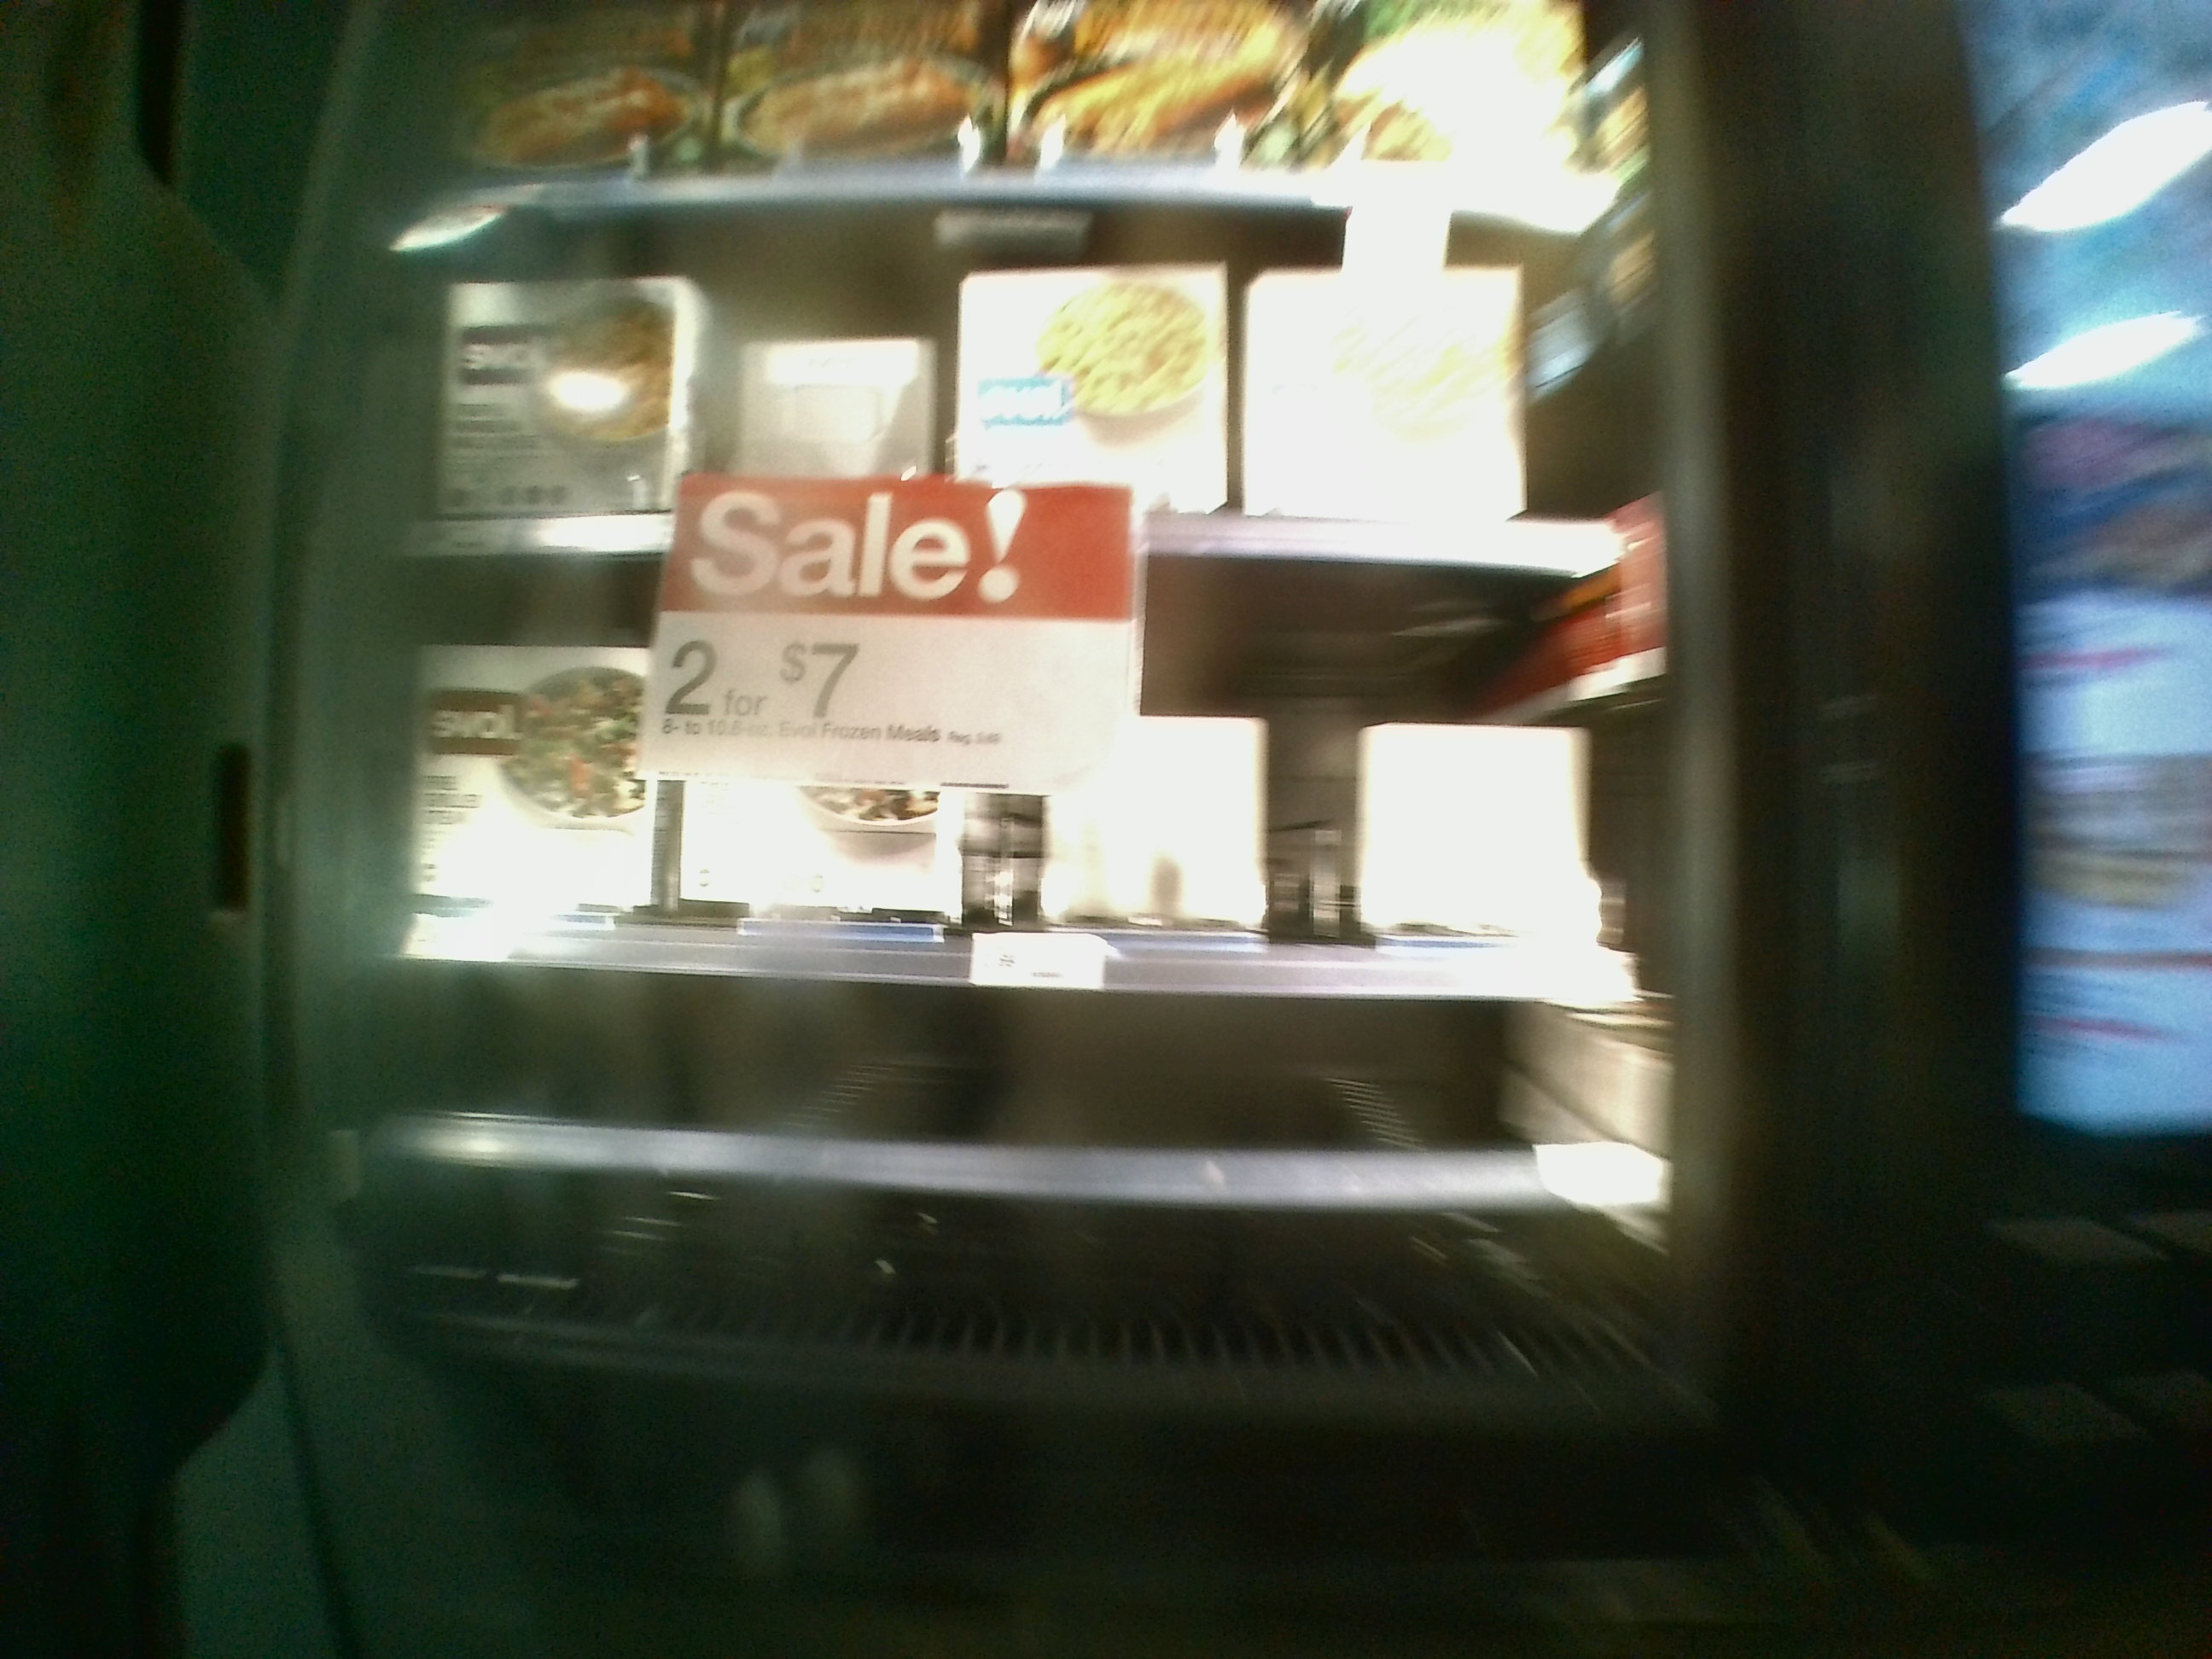shelf: (390, 568, 1663, 993), (385, 213, 1655, 570), (383, 993, 1663, 1347)
